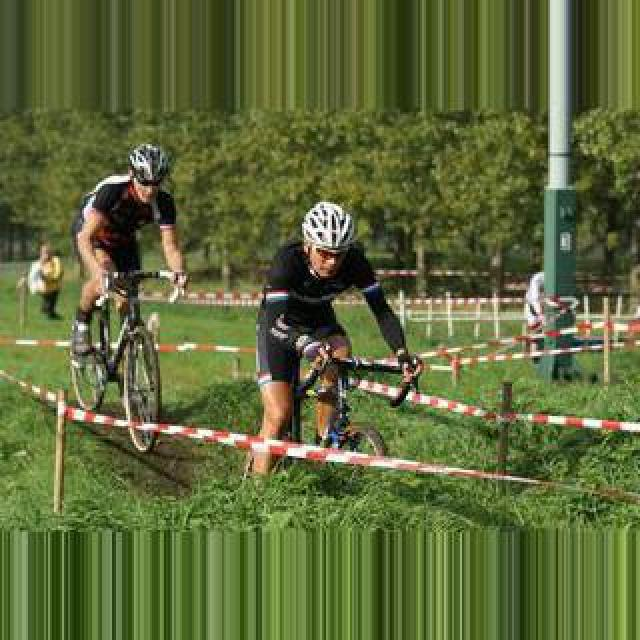MC-Bike: (248, 202, 422, 462), (70, 144, 190, 442)
Person: (70, 268, 176, 432)
